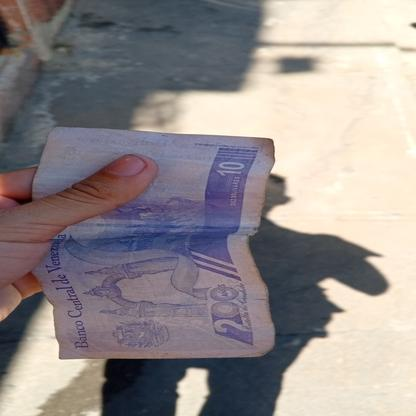ten-back-vef: (33, 128, 275, 359)
